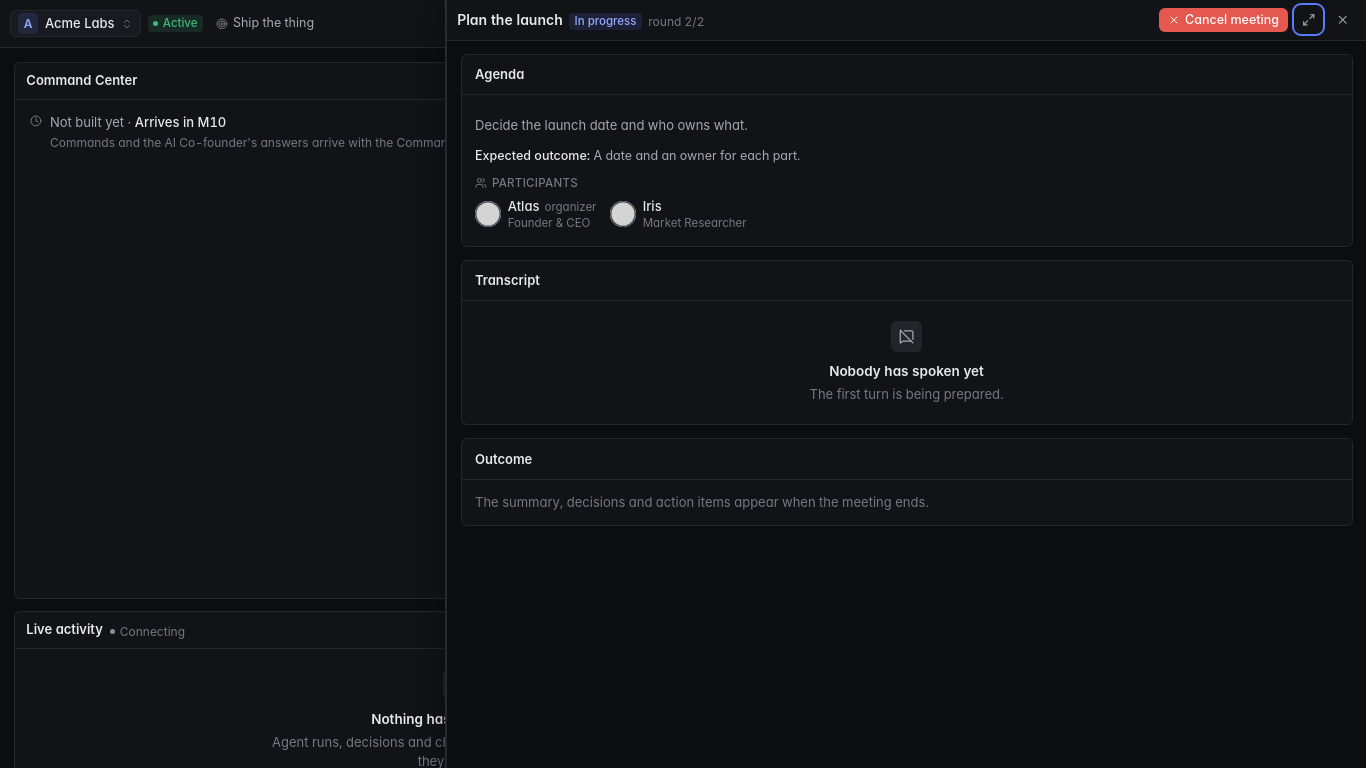
Scenario: meeting panel › shows the server message when the cancel is refused (409)
Click the button "Cancel meeting". click: (1224,20)
box: [1159, 8, 1288, 32]
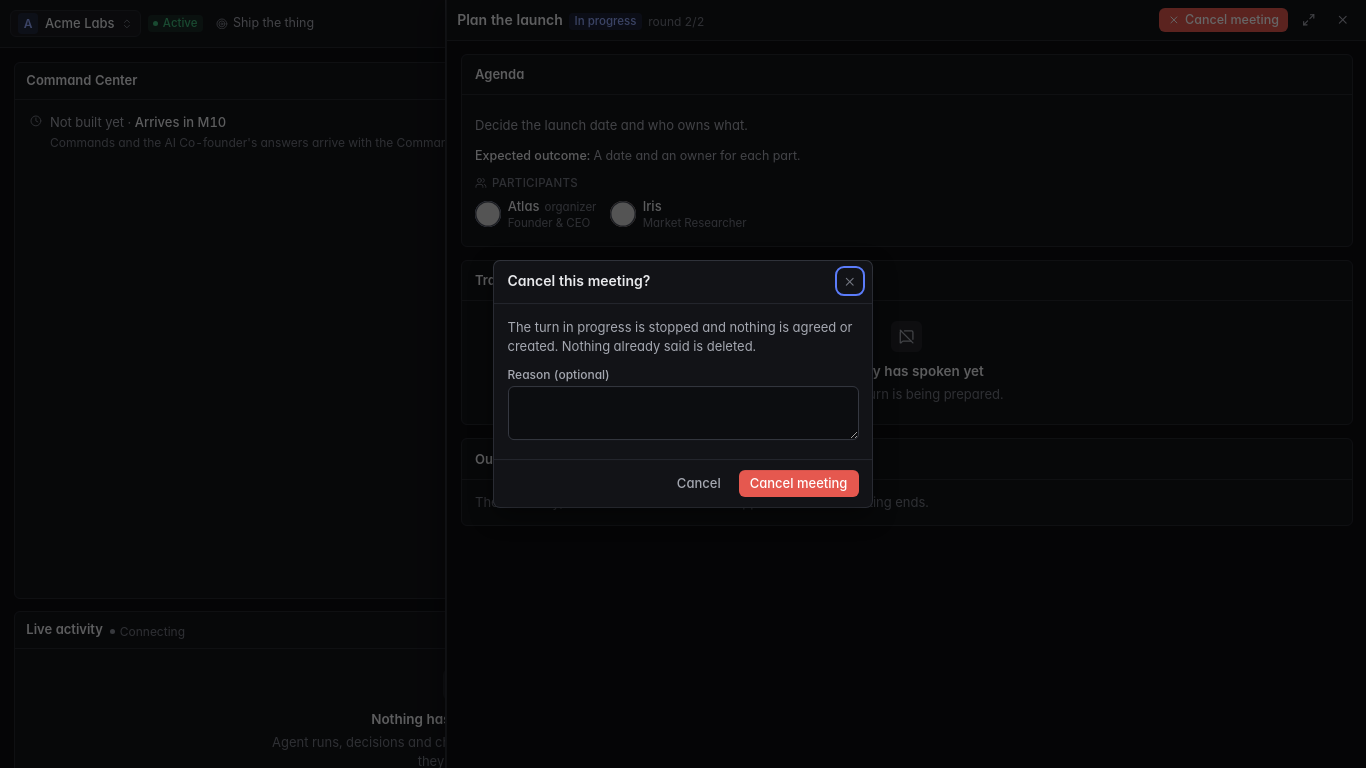
Click the button "Cancel meeting". click: (798,483)
box: [738, 470, 858, 497]
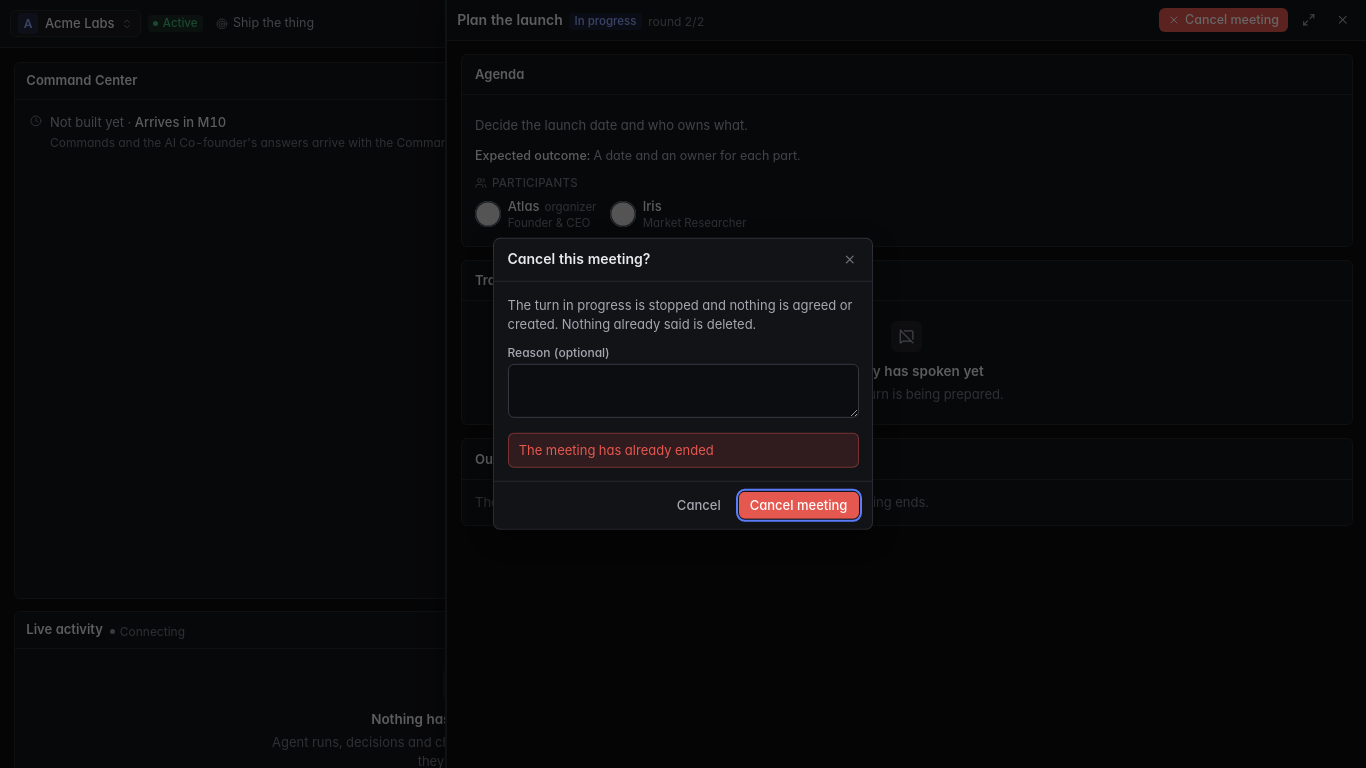
Expected: the text "The meeting has already ended" is shown, [508, 433, 858, 467]
